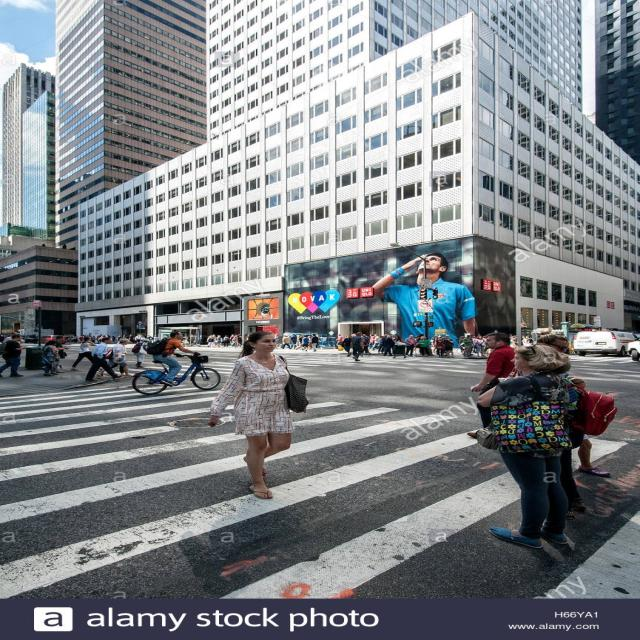body: (472, 346, 583, 550), (206, 330, 310, 502), (371, 250, 478, 349), (467, 332, 522, 439), (574, 376, 608, 479), (144, 331, 202, 386), (0, 331, 203, 345), (94, 336, 134, 379), (85, 336, 122, 382), (506, 331, 577, 351), (0, 333, 24, 377), (70, 336, 98, 372), (458, 334, 494, 358), (39, 339, 61, 376), (131, 337, 150, 368), (349, 332, 364, 362), (53, 335, 71, 359), (391, 334, 408, 359), (416, 336, 432, 358), (461, 334, 474, 358), (381, 334, 394, 356), (404, 334, 415, 358), (443, 334, 454, 358), (474, 335, 486, 356), (342, 335, 353, 357), (414, 334, 431, 348), (360, 334, 369, 358), (2, 331, 18, 344), (111, 362, 125, 376), (370, 334, 380, 351), (294, 333, 304, 350), (436, 336, 444, 357), (281, 334, 292, 349), (300, 335, 310, 351), (310, 333, 318, 352), (377, 336, 385, 355), (314, 334, 324, 349), (206, 334, 216, 348), (289, 334, 298, 349), (335, 333, 345, 346), (432, 336, 438, 356), (230, 334, 238, 348), (368, 333, 373, 350), (223, 334, 229, 348), (236, 334, 242, 348), (307, 336, 314, 348), (624, 329, 638, 334), (228, 334, 234, 345), (351, 332, 356, 337), (216, 335, 222, 338), (389, 334, 392, 338), (380, 334, 383, 338), (443, 356, 445, 358)
